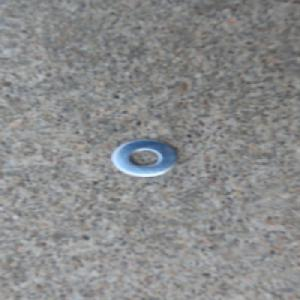Washer: (107, 137, 181, 179)
